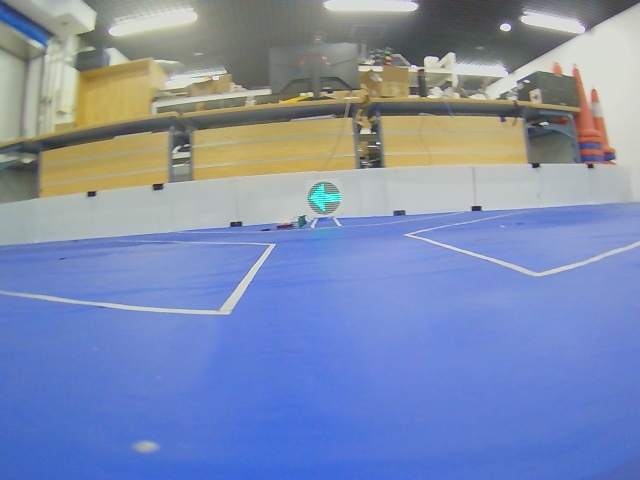left_green: (308, 181, 342, 215)
